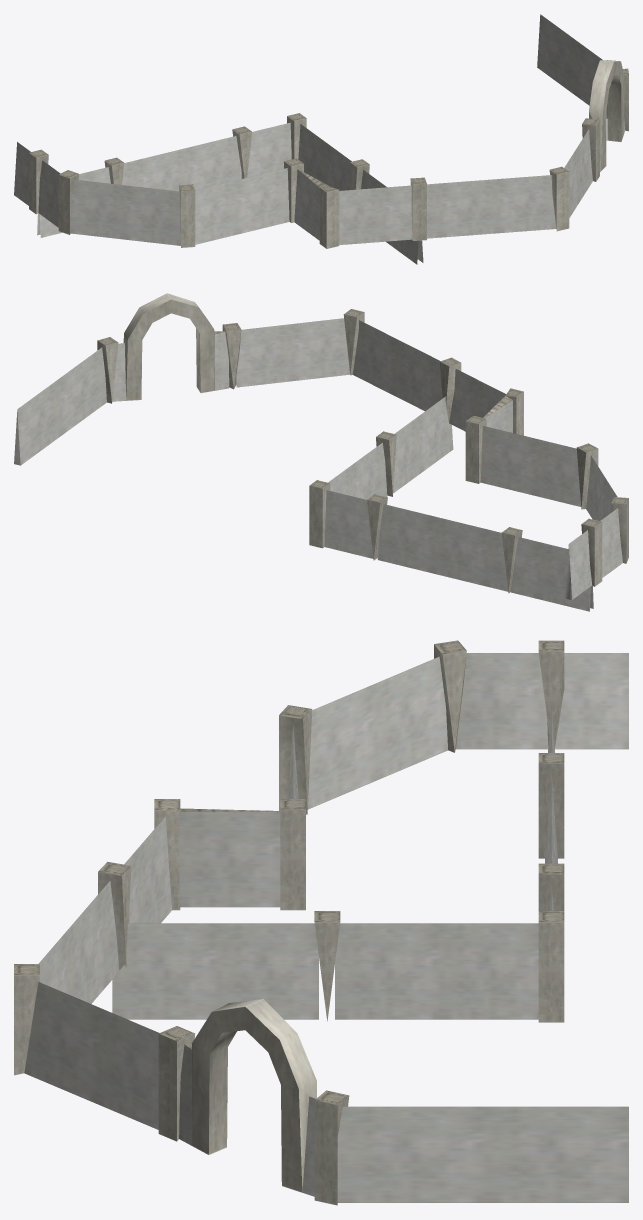
The model's file is poi_corl_corral_half_64x64_s01_l1.fbx.
3 views of the same model, one above another, from view 1: azimuth 30°, elevation 25°; view 2: azimuth 150°, elevation 25°; view 3: azimuth 270°, elevation 25° (orthographic). The views are drawn at different scales.
Visible parts, largest first — view 1: mesh_node; view 2: mesh_node; view 3: mesh_node.
Part boxes in pixels (x1,y1,x2,y2): mesh_node: (14,14,628,264); mesh_node: (14,293,628,611); mesh_node: (14,640,628,1205).
Bounding box in the file's own units: 42.57 × 9 × 23.81.
Materials: 1 (1 with a texture image).
